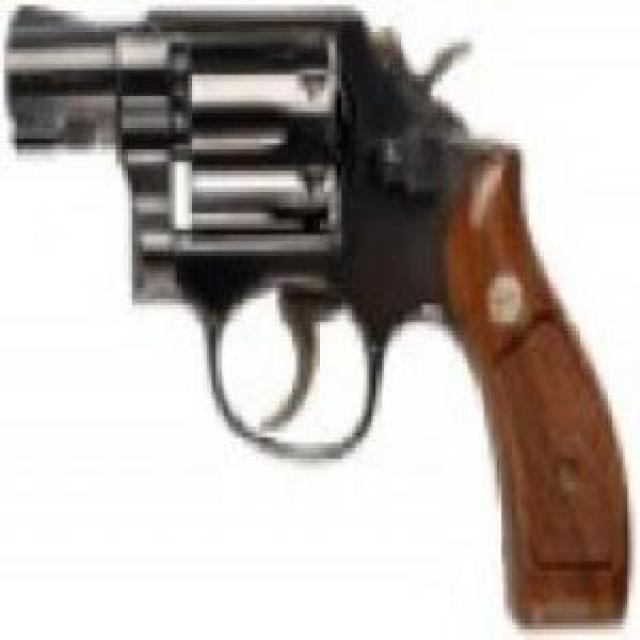pistol: (4, 6, 620, 625)
